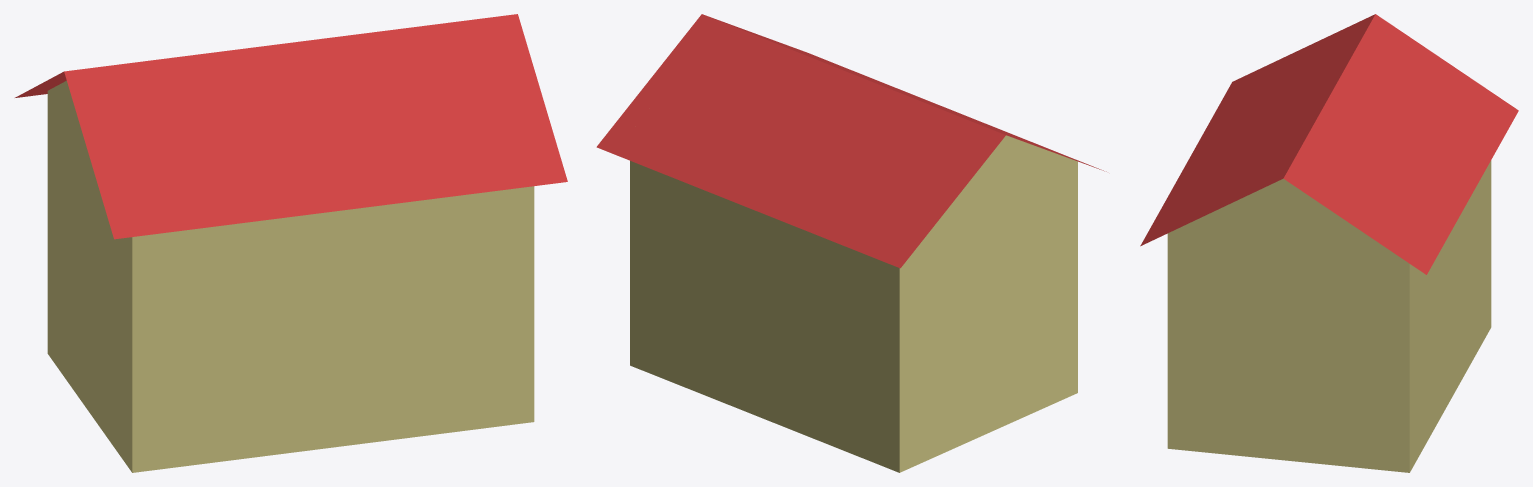
The picture shows the model from 3 angles, left to right: view 1: azimuth 30°, elevation 25°; view 2: azimuth 150°, elevation 25°; view 3: azimuth 270°, elevation 25°; orthographic projection. The views are drawn at different scales.
Parts seen in each view (by area): view 1: group_5, group_3, group_4; view 2: group_5, group_3, group_4; view 3: group_5, group_3, group_4.
Part boxes in pixels (<box>): group_5: <box>47,80,534,472</box>; group_3: <box>16,14,567,231</box>; group_4: <box>15,14,565,239</box>; group_5: <box>630,135,1077,472</box>; group_3: <box>630,14,1070,268</box>; group_4: <box>596,14,1106,267</box>; group_5: <box>1167,160,1491,472</box>; group_3: <box>1140,14,1518,250</box>; group_4: <box>1140,14,1518,274</box>.
Bounding box in the file's own units: 20.03 × 16.59 × 14.09.
